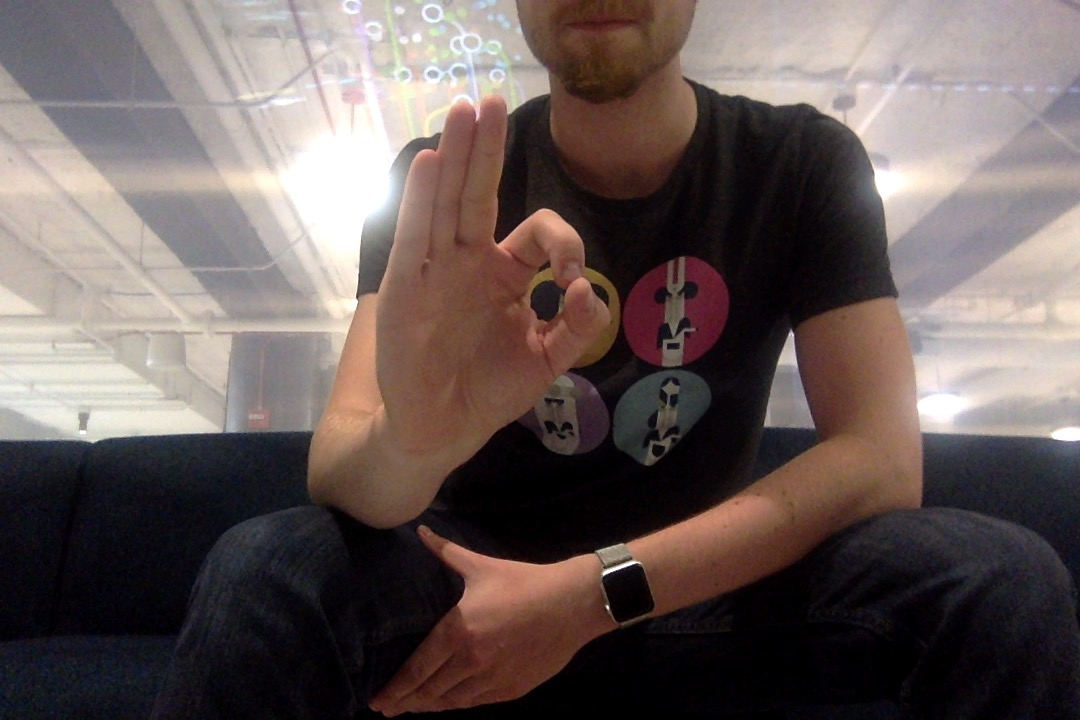f: (373, 88, 616, 459)
